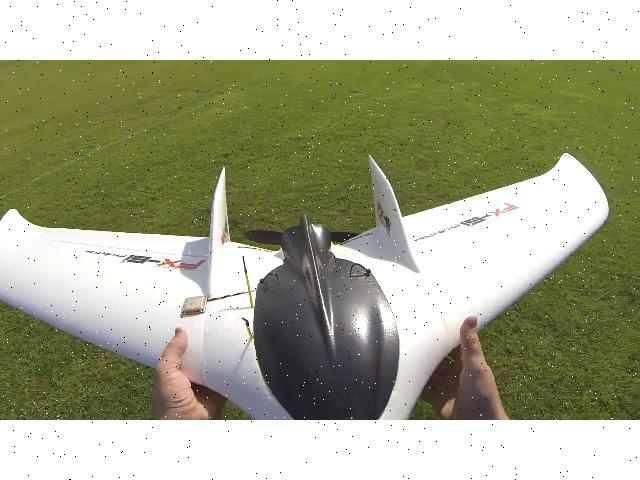Anti-Drone: (3, 139, 619, 413)
